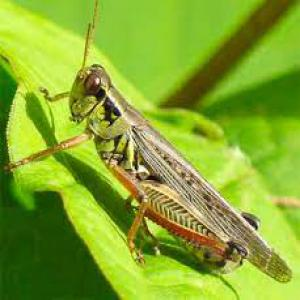locust: (60, 26, 300, 300)
